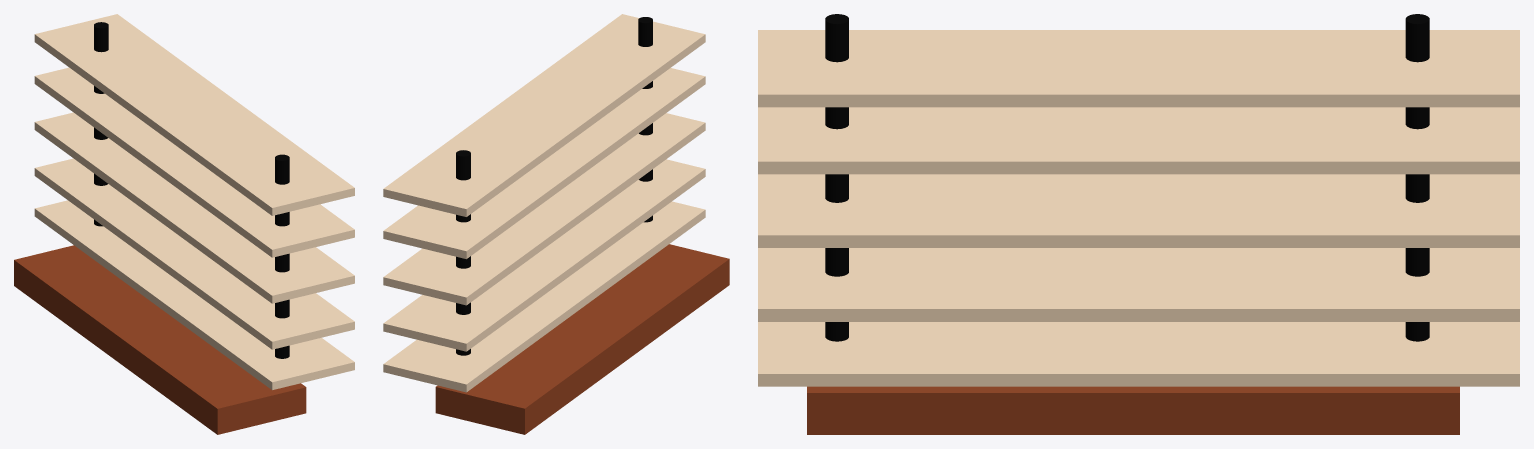
Rendered from Curtains.DAE.
The picture shows the model from 3 angles, left to right: view 1: azimuth 30°, elevation 25°; view 2: azimuth 150°, elevation 25°; view 3: azimuth 270°, elevation 25°; orthographic projection. The views are drawn at different scales.
Visible parts, largest first — view 1: Box001; view 2: Box001; view 3: Box001.
Part boxes in pixels (x1,y1,x2,y2): Box001: (14, 14, 354, 434); Box001: (383, 14, 729, 434); Box001: (758, 14, 1519, 434).
Bounding box in the file's own units: 0.00874 × 0.0172 × 0.0294.
